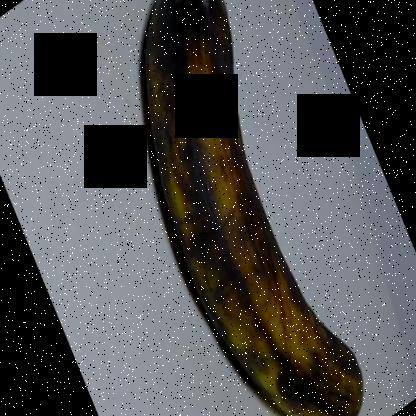overripe: (119, 1, 376, 416)
